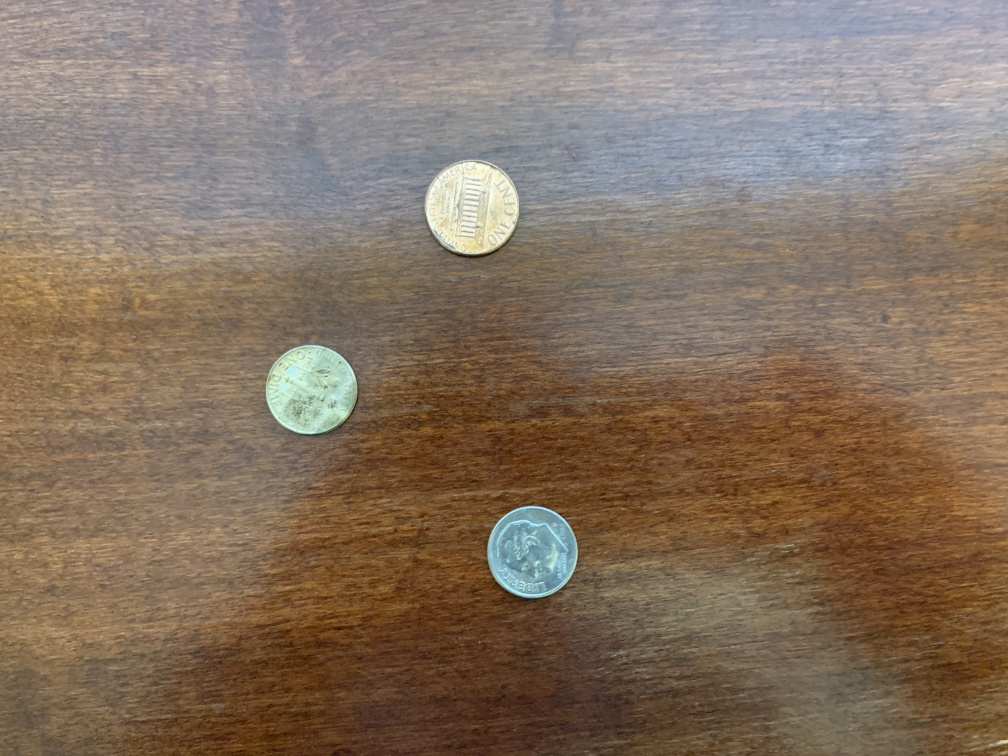dime: (263, 340, 363, 441), (484, 501, 583, 603)
penny: (420, 154, 524, 263)
